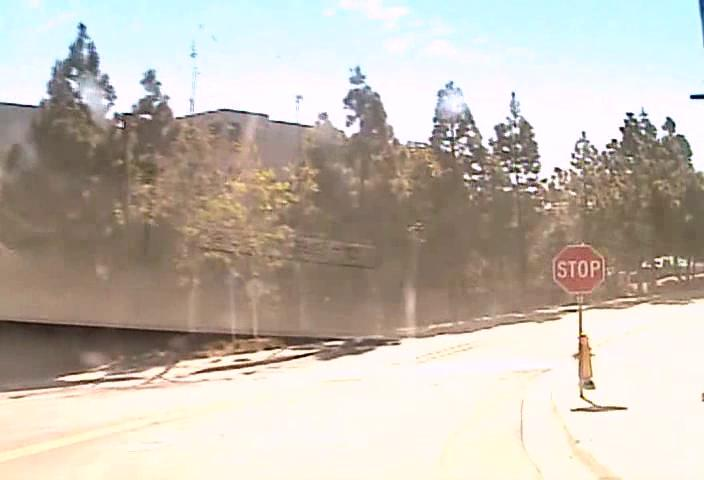stop: (552, 244, 605, 294)
